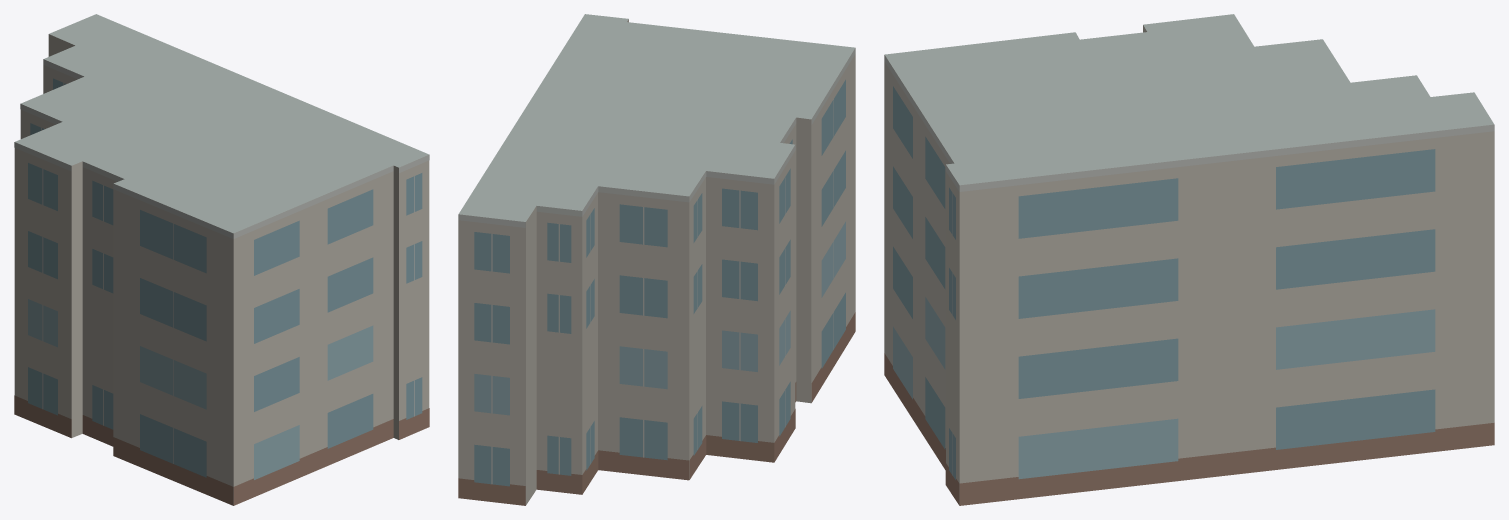
The model's file is survey-upis-32708692.glb.
3 renders of one model, left to right at view 1: azimuth 30°, elevation 25°; view 2: azimuth 150°, elevation 25°; view 3: azimuth 270°, elevation 25°, orthographic. The views are drawn at different scales.
Visible parts, largest first — view 1: survey-upis-32708692.tmp; view 2: survey-upis-32708692.tmp; view 3: survey-upis-32708692.tmp.
Part boxes in pixels (x1,y1,x2,y2): survey-upis-32708692.tmp: [14, 14, 429, 505]; survey-upis-32708692.tmp: [458, 14, 855, 505]; survey-upis-32708692.tmp: [884, 14, 1494, 505].
Bounding box in the file's own units: 13.42 × 11.7 × 20.19.
